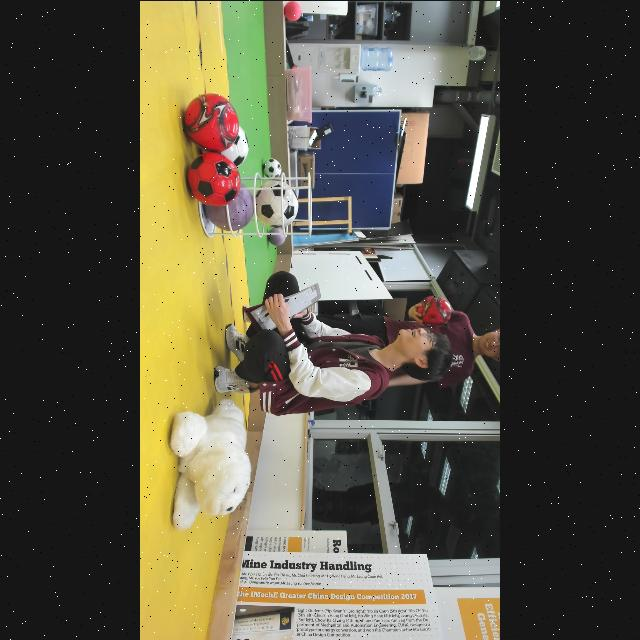P: (202, 180, 256, 230), (266, 226, 290, 246)
R: (180, 90, 243, 154), (182, 149, 242, 207), (414, 290, 454, 330), (284, 0, 304, 22)
S: (194, 168, 316, 240)
